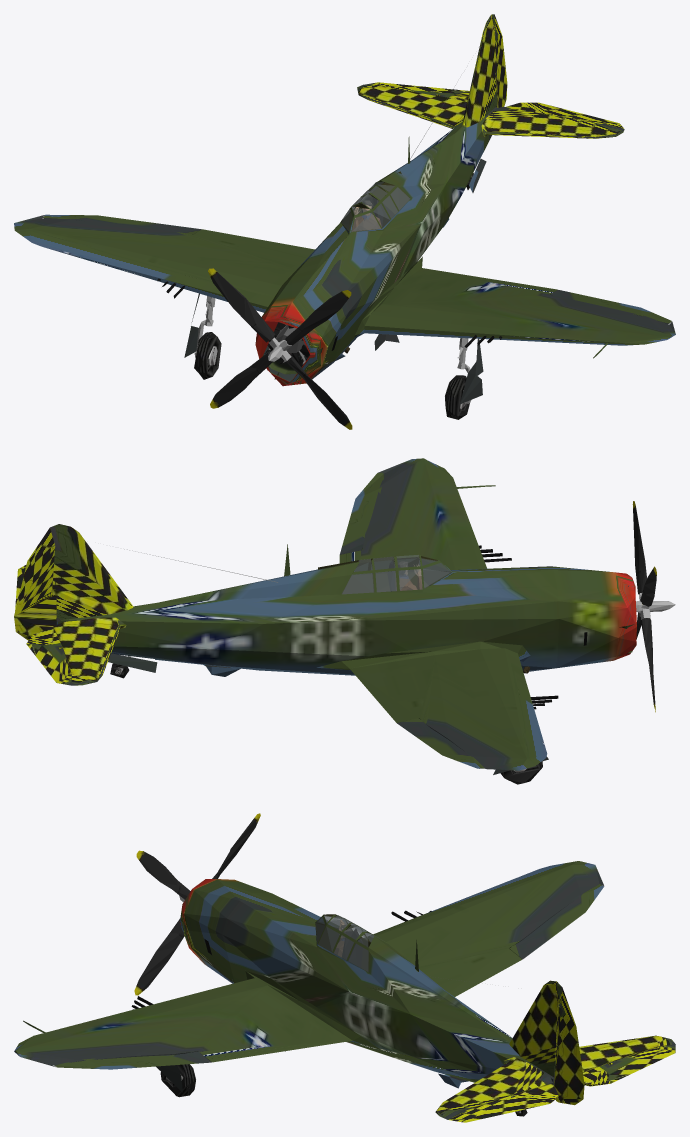
3 views of the same model, one above another, from view 1: azimuth 30°, elevation 25°; view 2: azimuth 150°, elevation 25°; view 3: azimuth 270°, elevation 25° (orthographic). The views are drawn at different scales.
Parts seen in each view (by area): view 1: Line_J_J02-FACES, LineXX11-FACES, LineXX21-FACES, LineXX20-FACES, Cylinder21-FACES, kabina01-FACES (×2), Circle10-FACES, Object19-FACES, Torus07-FACES, Object18-FACES, Object01-FACES, Object22-FACES (+1 smaller); view 2: Line_J_J02-FACES, LineXX21-FACES, LineXX11-FACES, Circle10-FACES, kabina01-FACES (×2), LineXX20-FACES, Object01-FACES, Object19-FACES, Cylinder21-FACES, Object18-FACES, Torus07-FACES, Object20-FACES; view 3: Line_J_J02-FACES, LineXX11-FACES, LineXX21-FACES, LineXX20-FACES, Object19-FACES, Object18-FACES, Circle10-FACES, kabina01-FACES (×2), Cylinder21-FACES, Object01-FACES, Torus07-FACES, Box01-FACES.
Part boxes in pixels (left/top/right/bottom): Line_J_J02-FACES: left=255, top=107, right=497, bottom=386; LineXX11-FACES: left=354, top=256, right=675, bottom=345; LineXX21-FACES: left=14, top=215, right=314, bottom=312; LineXX20-FACES: left=357, top=84, right=624, bottom=138; Cylinder21-FACES: left=208, top=268, right=352, bottom=429; kabina01-FACES (×2): left=341, top=171, right=410, bottom=231; Circle10-FACES: left=462, top=14, right=497, bottom=127; Object19-FACES: left=43, top=214, right=671, bottom=323; Torus07-FACES: left=194, top=173, right=473, bottom=419; Object18-FACES: left=365, top=82, right=623, bottom=128; Object01-FACES: left=494, top=14, right=507, bottom=107; Object22-FACES: left=184, top=326, right=482, bottom=404; Line_J_J02-FACES: left=56, top=555, right=636, bottom=675; LineXX21-FACES: left=316, top=641, right=547, bottom=770; LineXX11-FACES: left=339, top=458, right=486, bottom=569; Circle10-FACES: left=50, top=524, right=134, bottom=621; kabina01-FACES (×2): left=318, top=555, right=450, bottom=594; LineXX20-FACES: left=53, top=617, right=126, bottom=685; Object01-FACES: left=14, top=528, right=56, bottom=640; Object19-FACES: left=339, top=472, right=484, bottom=768; Cylinder21-FACES: left=632, top=501, right=656, bottom=712; Object18-FACES: left=15, top=565, right=71, bottom=685; Torus07-FACES: left=110, top=663, right=542, bottom=784; Object20-FACES: left=108, top=653, right=157, bottom=672; Line_J_J02-FACES: left=179, top=879, right=554, bottom=1085; LineXX11-FACES: left=14, top=971, right=380, bottom=1067; LineXX21-FACES: left=365, top=861, right=603, bottom=996; LineXX20-FACES: left=435, top=1035, right=675, bottom=1119; Object19-FACES: left=53, top=884, right=603, bottom=1069; Object18-FACES: left=449, top=1044, right=675, bottom=1122; Circle10-FACES: left=509, top=980, right=562, bottom=1077; kabina01-FACES (×2): left=315, top=914, right=379, bottom=971; Cylinder21-FACES: left=134, top=813, right=260, bottom=995; Object01-FACES: left=554, top=988, right=584, bottom=1105; Torus07-FACES: left=160, top=1064, right=527, bottom=1116; Box01-FACES: left=342, top=928, right=363, bottom=967.
Size of the model in its own units: 11.05 by 4.19 by 11.2.
36 materials, 19 textured.
